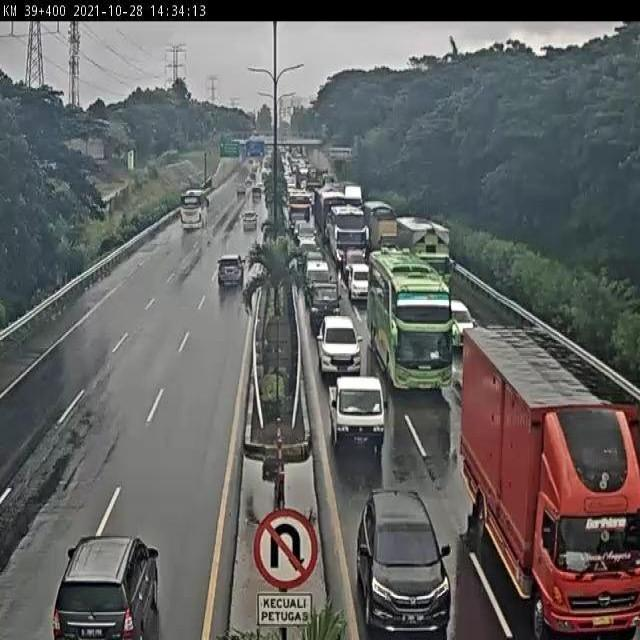bus-l-: (369, 250, 452, 386), (332, 205, 368, 263), (174, 189, 208, 236)
car: (357, 485, 451, 631), (329, 377, 387, 451), (316, 311, 359, 373), (308, 276, 342, 331), (344, 258, 369, 294), (304, 258, 331, 282)
truck-l-: (457, 324, 640, 631), (392, 218, 453, 294)
